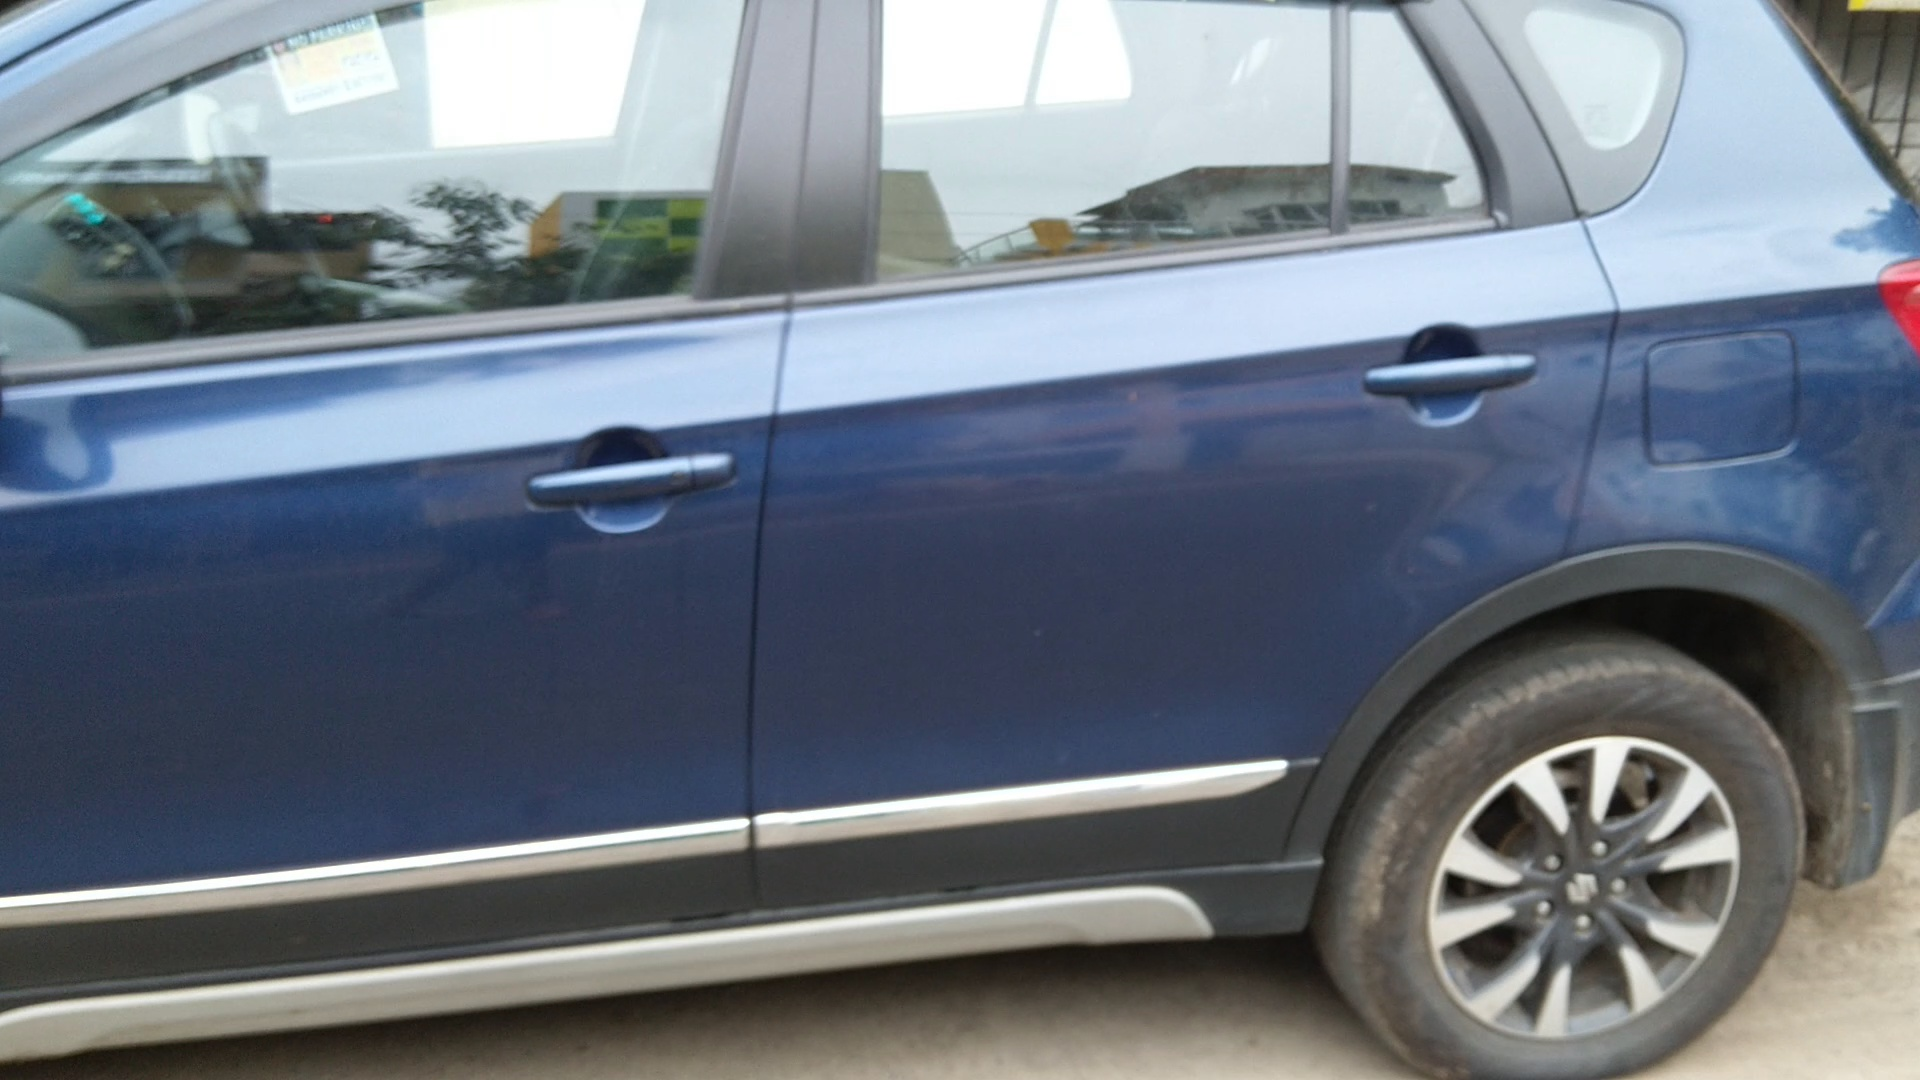alloy_wheel: (1408, 663, 1811, 1075)
